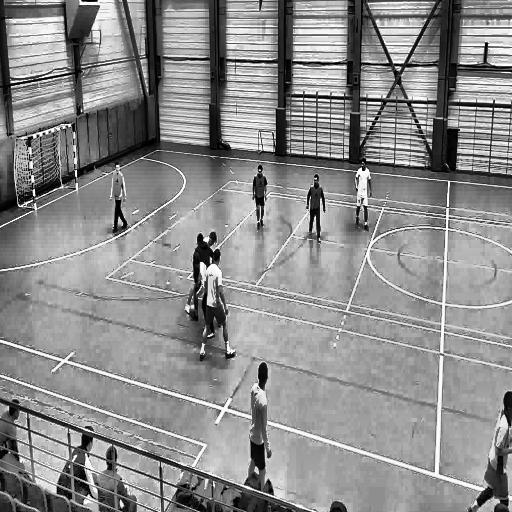ball: (189, 302, 196, 314)
player: (199, 248, 236, 363), (194, 253, 217, 342), (305, 173, 327, 249), (108, 159, 129, 237), (354, 155, 374, 234), (250, 162, 269, 232), (193, 232, 213, 284), (204, 224, 216, 252)
